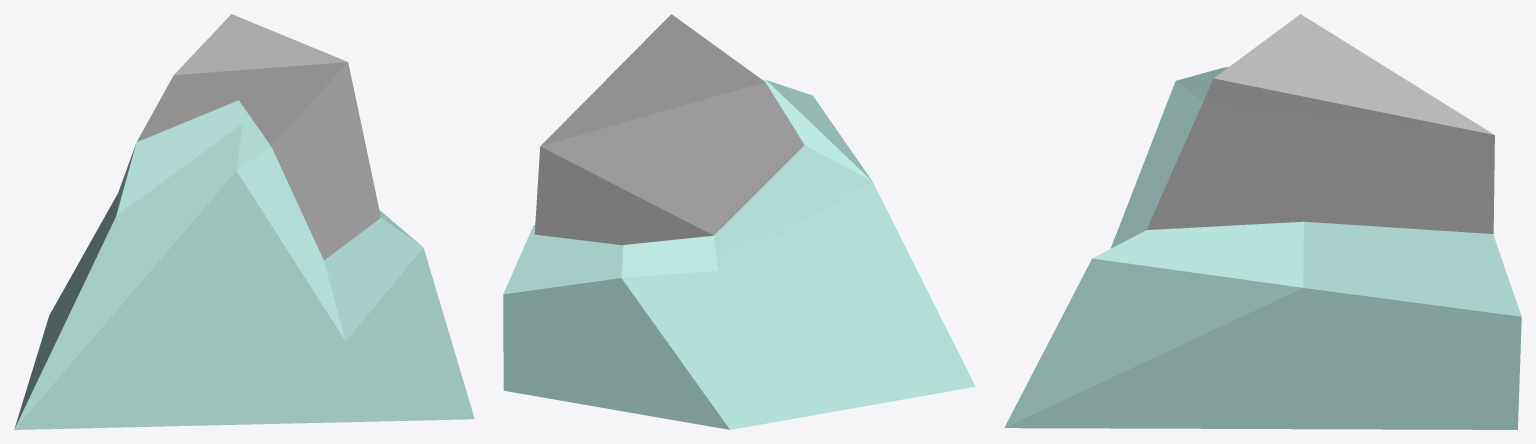
The model's file is Rock2.FBX.
The picture shows the model from 3 angles, left to right: view 1: azimuth 30°, elevation 25°; view 2: azimuth 150°, elevation 25°; view 3: azimuth 270°, elevation 25°; orthographic projection. The views are drawn at different scales.
Visible parts, largest first — view 1: Rock2_b, Rock2; view 2: Rock2_b, Rock2; view 3: Rock2_b, Rock2.
Part boxes in pixels (left/top/right/bottom): Rock2_b: left=14, top=100, right=474, bottom=429; Rock2: left=137, top=14, right=380, bottom=260; Rock2_b: left=503, top=79, right=975, bottom=429; Rock2: left=534, top=14, right=804, bottom=245; Rock2_b: left=1004, top=67, right=1521, bottom=429; Rock2: left=1146, top=14, right=1494, bottom=234.
Bounding box in the file's own units: 3818 × 3007 × 4253.
